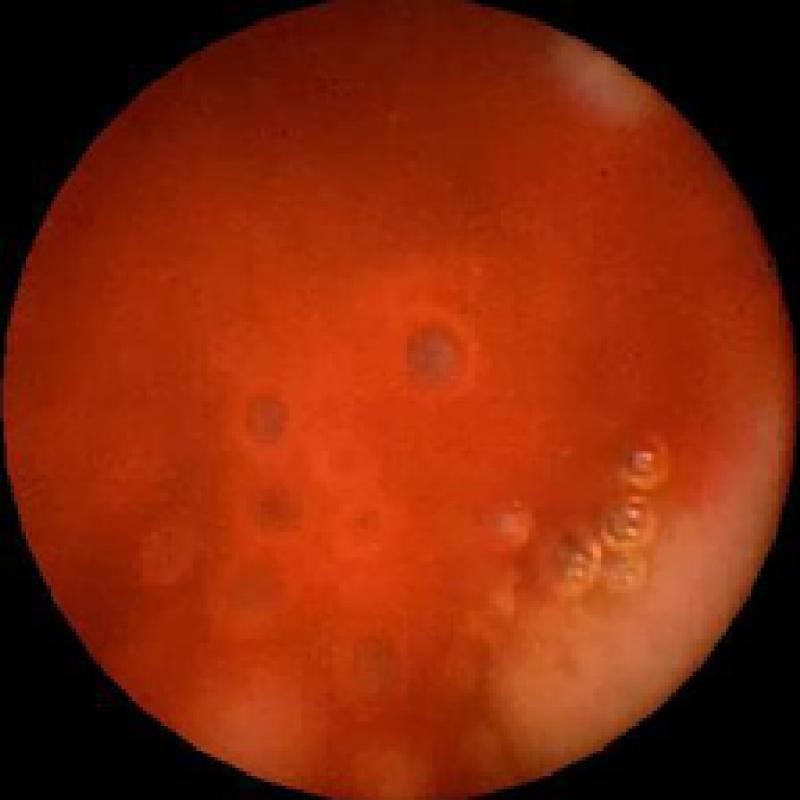bleeding: (111, 21, 671, 768)
